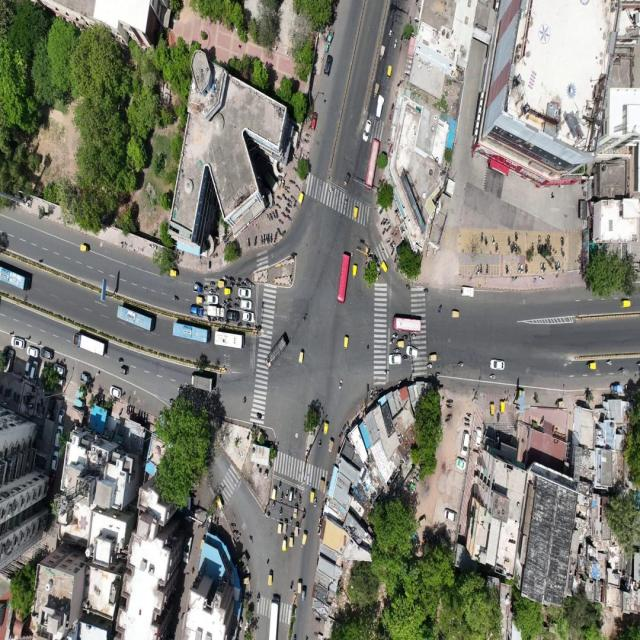3W: (585, 357, 598, 375), (341, 330, 351, 353), (377, 39, 386, 64), (618, 295, 632, 310), (78, 238, 90, 254), (342, 170, 352, 189), (167, 266, 180, 280), (380, 260, 390, 277), (117, 365, 130, 377), (384, 64, 393, 81), (297, 348, 305, 367), (499, 400, 508, 416), (489, 402, 496, 421), (216, 278, 226, 290), (192, 282, 202, 294), (282, 534, 288, 554), (308, 485, 314, 505), (450, 308, 460, 320), (426, 353, 439, 362), (216, 494, 223, 510), (351, 263, 358, 279), (267, 568, 273, 586), (271, 483, 277, 501), (292, 502, 298, 520), (373, 80, 379, 98), (298, 191, 305, 206), (302, 531, 308, 548), (353, 203, 359, 220), (193, 295, 204, 304), (276, 519, 282, 535), (282, 518, 288, 534), (297, 578, 302, 596), (289, 531, 294, 549), (396, 340, 406, 349), (294, 524, 300, 537), (224, 288, 233, 296)
Bus: (0, 262, 39, 304), (164, 322, 212, 351), (113, 304, 155, 336), (366, 138, 385, 195), (337, 246, 350, 307), (214, 329, 247, 351), (392, 311, 426, 332)
Cars: (440, 502, 458, 527), (457, 431, 473, 457), (46, 449, 62, 472), (455, 283, 478, 299), (50, 426, 66, 448), (486, 355, 507, 371), (323, 54, 335, 80), (360, 117, 372, 143), (106, 383, 124, 400), (8, 335, 26, 351), (40, 344, 56, 361), (188, 304, 204, 319), (310, 109, 320, 133), (52, 364, 70, 377), (55, 406, 68, 424), (387, 353, 404, 366), (406, 344, 420, 359), (237, 287, 252, 300), (204, 294, 220, 306), (226, 310, 242, 322), (23, 357, 31, 380), (242, 310, 256, 323), (30, 362, 39, 382), (240, 298, 254, 310), (26, 346, 39, 358), (302, 585, 307, 604), (289, 486, 294, 502)
LCV: (206, 306, 224, 317)
M2W: (300, 306, 310, 326), (452, 359, 466, 372), (336, 377, 346, 393), (435, 300, 444, 316), (171, 292, 182, 304), (420, 284, 432, 294), (246, 230, 252, 249), (606, 354, 614, 368), (288, 576, 294, 594), (504, 260, 510, 278), (392, 37, 399, 52), (252, 232, 258, 248), (488, 373, 497, 383), (524, 261, 530, 276), (618, 365, 626, 376), (558, 236, 566, 247), (254, 590, 260, 604), (496, 410, 502, 424), (538, 261, 544, 275), (240, 394, 248, 404), (255, 410, 263, 420), (479, 228, 484, 244), (553, 259, 558, 275), (273, 202, 283, 210), (490, 232, 496, 245), (342, 197, 348, 210), (265, 212, 271, 225), (387, 26, 393, 39), (462, 421, 473, 428), (276, 226, 283, 237), (475, 262, 480, 277), (117, 354, 125, 363), (484, 264, 490, 276), (228, 521, 238, 528), (404, 282, 411, 292), (464, 410, 474, 417), (514, 228, 519, 242), (392, 226, 399, 236), (462, 417, 473, 423), (286, 214, 292, 225), (387, 112, 393, 123), (506, 234, 511, 247), (537, 230, 542, 243), (516, 260, 520, 276), (521, 260, 525, 276), (446, 397, 455, 404), (290, 193, 297, 202), (390, 332, 399, 339), (409, 334, 418, 341), (209, 277, 215, 287), (248, 535, 254, 545), (278, 506, 284, 516), (302, 506, 306, 521), (298, 492, 303, 504), (445, 412, 455, 418), (281, 210, 287, 220), (284, 185, 290, 195), (380, 228, 386, 238), (262, 231, 266, 245), (393, 346, 400, 354), (442, 418, 453, 423), (222, 273, 228, 282), (230, 529, 239, 535), (445, 404, 454, 410), (290, 177, 296, 186), (287, 201, 293, 210), (389, 337, 395, 346), (278, 478, 282, 491), (391, 102, 396, 112), (202, 285, 209, 292), (206, 315, 212, 323), (270, 504, 276, 512), (280, 492, 284, 504), (276, 193, 282, 201), (295, 184, 301, 192), (401, 335, 409, 341), (426, 364, 434, 370), (380, 216, 386, 224), (386, 237, 392, 245), (351, 248, 355, 260), (391, 247, 396, 256), (208, 287, 214, 294), (220, 300, 226, 307), (233, 303, 240, 309), (236, 321, 243, 327), (249, 281, 255, 288), (314, 496, 317, 510), (273, 210, 277, 220), (294, 486, 297, 499), (234, 297, 240, 303), (226, 303, 232, 309), (218, 317, 224, 323), (243, 276, 249, 282), (267, 233, 270, 245), (225, 298, 233, 302), (211, 317, 217, 322), (225, 319, 230, 325), (246, 323, 252, 328), (236, 277, 242, 282), (230, 281, 235, 287), (230, 274, 235, 280), (241, 282, 247, 287), (286, 487, 288, 500), (215, 288, 219, 294), (235, 283, 241, 287)
Truck: (257, 330, 292, 374), (68, 329, 107, 358), (187, 369, 217, 392), (375, 95, 385, 124)
